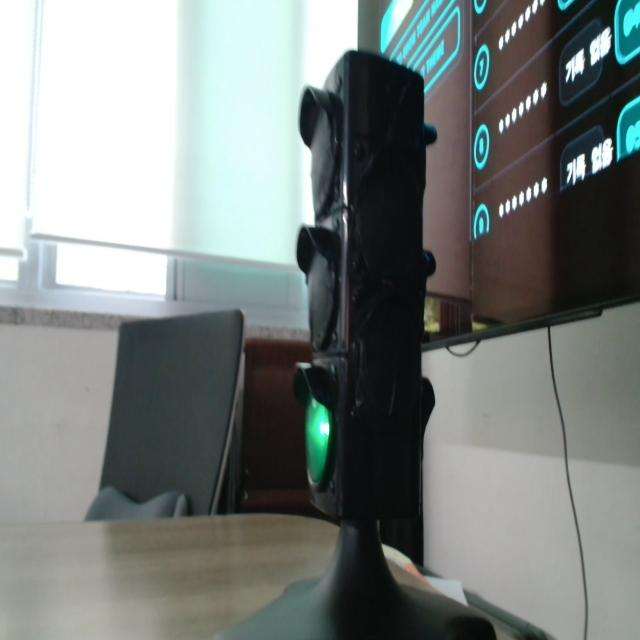green_light: (306, 398, 330, 482)
